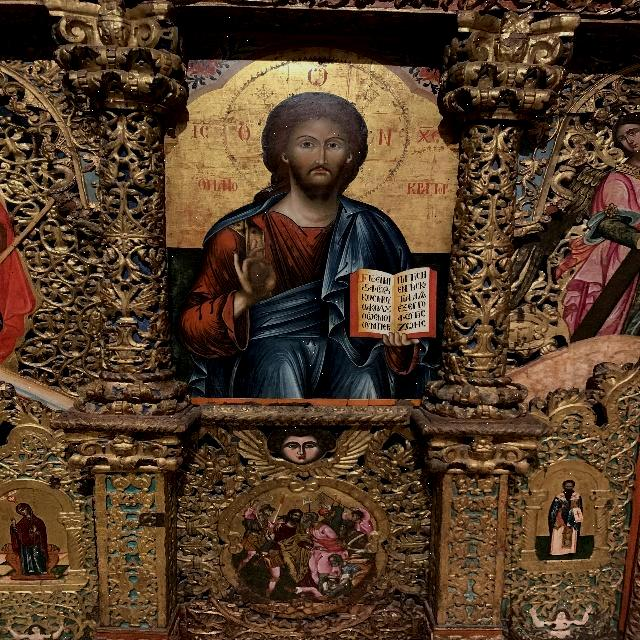aura: (217, 57, 413, 207)
book: (346, 267, 435, 340)
christ: (205, 54, 436, 370)
hand: (230, 242, 279, 317)
